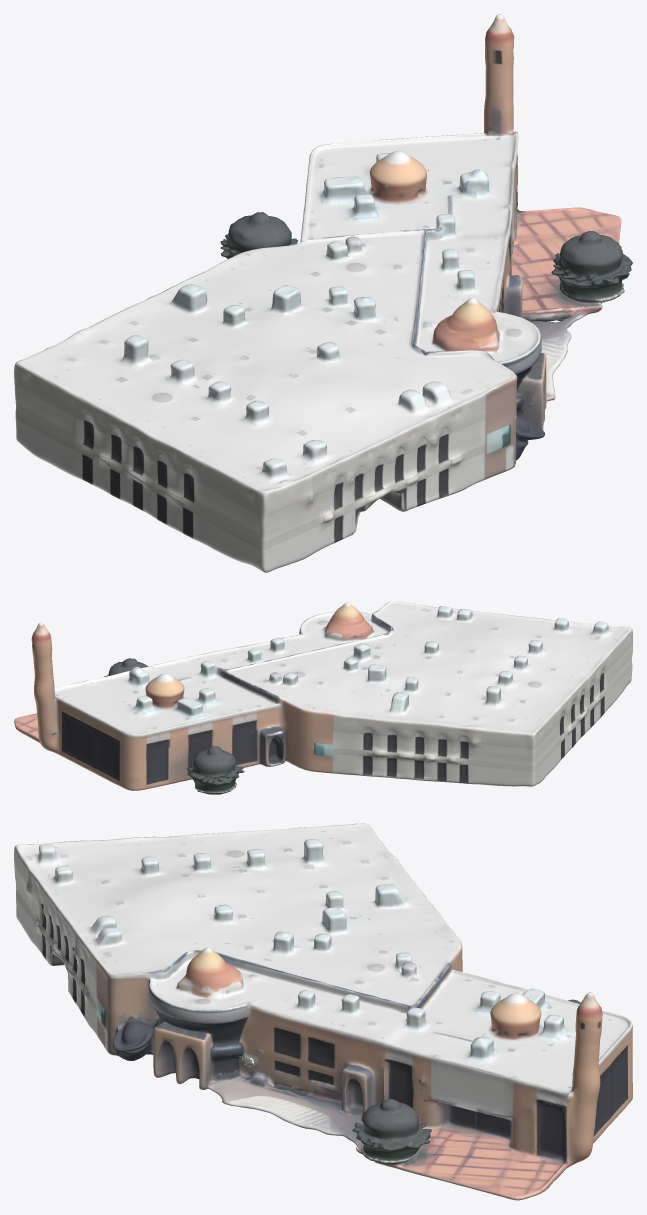
The model's file is iant-masjid-richardson.glb.
The picture shows the model from 3 angles, top to bottom: view 1: azimuth 30°, elevation 25°; view 2: azimuth 150°, elevation 25°; view 3: azimuth 270°, elevation 25°; orthographic projection. The views are drawn at different scales.
Parts seen in each view (by area): view 1: tripo_node_00a820d3-469c-46a3-bbdf-65cd00db5804; view 2: tripo_node_00a820d3-469c-46a3-bbdf-65cd00db5804; view 3: tripo_node_00a820d3-469c-46a3-bbdf-65cd00db5804.
Part boxes in pixels (x1=…): tripo_node_00a820d3-469c-46a3-bbdf-65cd00db5804: x1=14, y1=14, x2=632, y2=572; tripo_node_00a820d3-469c-46a3-bbdf-65cd00db5804: x1=14, y1=601, x2=632, y2=794; tripo_node_00a820d3-469c-46a3-bbdf-65cd00db5804: x1=14, y1=823, x2=632, y2=1200.
Bounding box in the file's own units: 0.9771 × 0.2701 × 0.8514.
Materials: 1 (1 with a texture image).
